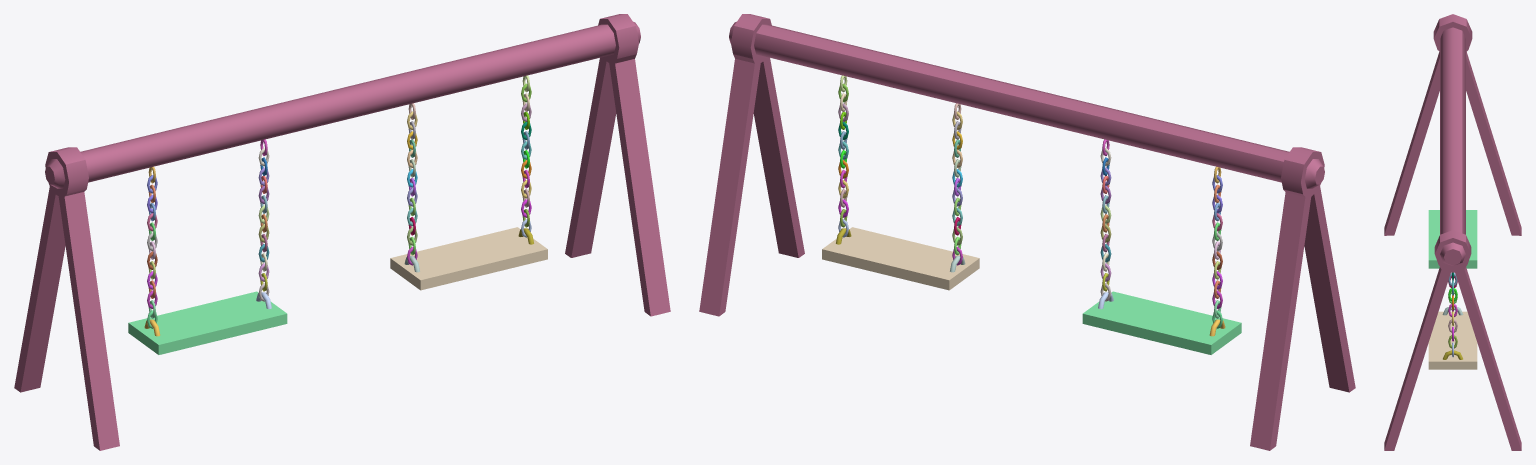
3 views of the same model, side by side, from view 1: azimuth 30°, elevation 25°; view 2: azimuth 150°, elevation 25°; view 3: azimuth 270°, elevation 25° (orthographic). The views are drawn at different scales.
Parts seen in each view (by area): view 1: split_parent_1, group6_pasted__pasted__pasted__pasted__pasted__pTorus2_lambe (×2); view 2: split_parent_1, group6_pasted__pasted__pasted__pasted__pasted__pTorus2_lambe (×2); view 3: split_parent_1, group6_pasted__pasted__pasted__pasted__pasted__pTorus2_lambe (×2).
Part boxes in pixels (<box>): split_parent_1: <box>14,14,670,450</box>; group6_pasted__pasted__pasted__pasted__pasted__pTorus2_lambe (×2): <box>128,227,547,354</box>; split_parent_1: <box>699,14,1355,450</box>; group6_pasted__pasted__pasted__pasted__pasted__pTorus2_lambe (×2): <box>822,227,1241,354</box>; split_parent_1: <box>1384,14,1521,450</box>; group6_pasted__pasted__pasted__pasted__pasted__pTorus2_lambe (×2): <box>1428,210,1477,369</box>.
Size of the model in its own units: 1 by 0.4365 by 0.2542.
